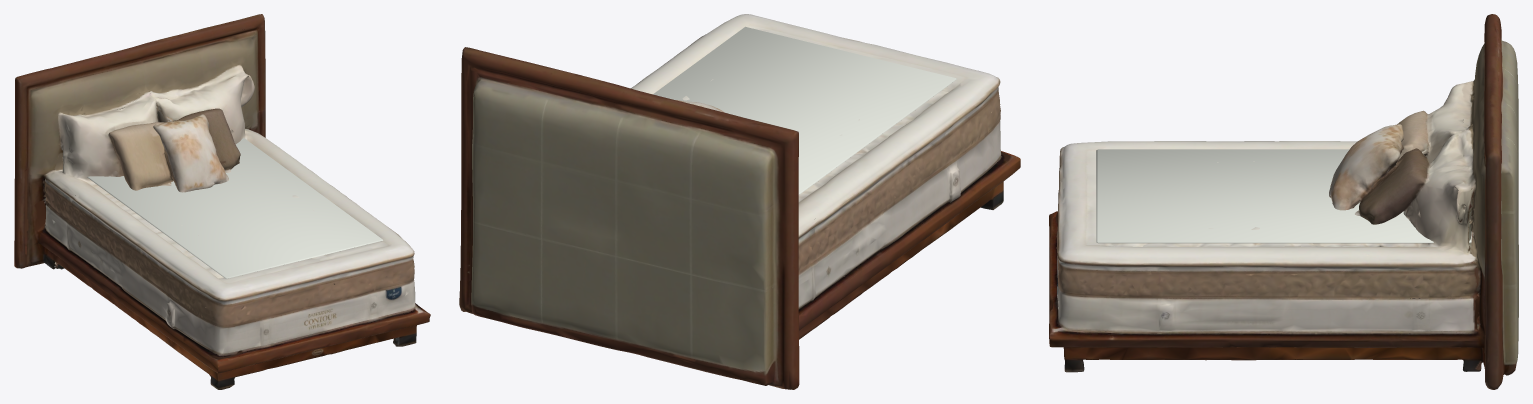
Rendered from guhdo_ic.glb.
The picture shows the model from 3 angles, left to right: view 1: azimuth 30°, elevation 25°; view 2: azimuth 150°, elevation 25°; view 3: azimuth 270°, elevation 25°; orthographic projection. The views are drawn at different scales.
Visible parts, largest first — view 1: model.001, Plane; view 2: model.001, Plane; view 3: model.001, Plane.
Part boxes in pixels (x1,y1,x2,y2): model.001: (14, 14, 430, 389); Plane: (87, 137, 383, 278); model.001: (459, 14, 1020, 389); Plane: (653, 26, 956, 194); model.001: (1049, 14, 1518, 389); Plane: (1096, 149, 1471, 243).
Bounding box in the file's own units: 1.6 × 1.19 × 2.15.
2 materials, 1 textured.
